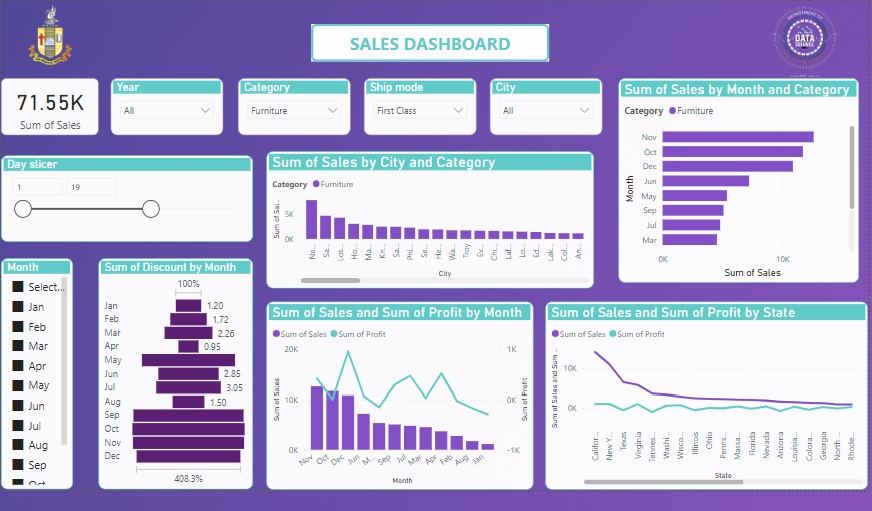

What the dashboard file says about the page in this screenshot:
{"tool":"powerbi","page":{"name":"Page 1","canvas":[1280,720],"ordinal":0},"visuals":[{"type":"clusteredColumnChart","fields":{"Category":["Table 1 (New Report).City"],"Series":["Table 1 (New Report).Category"],"Y":["Sum(Table 1 (New Report).Sales)"]},"box":[392,222,484,202],"z":0},{"type":"barChart","fields":{"Series":["Table 1 (New Report).Category"],"Y":["Sum(Table 1 (New Report).Sales)"],"Category":["Table 1 (New Report).Month"]},"box":[912.1,114.4,355.5,301.8],"z":1000},{"type":"lineStackedColumnComboChart","fields":{"Y2":["Sum(Table 1 (New Report).Profit)"],"Category":["Table 1 (New Report).Month"],"Y":["Sum(Table 1 (New Report).Sales)"]},"box":[392,444,394,276],"z":2000},{"type":"lineChart","fields":{"Y":["Sum(Table 1 (New Report).Sales)","Sum(Table 1 (New Report).Profit)"],"Category":["Table 1 (New Report).State"]},"box":[804,444,476,276],"z":3000},{"type":"slicer","title":"Month","fields":{"Values":["Table 1 (New Report).Month"]},"box":[0,380,106,340],"z":4000},{"type":"funnel","fields":{"Category":["Table 1 (New Report).Month"],"Y":["Sum(Table 1 (New Report).Discount)"]},"box":[144,380,228,340],"z":5000},{"type":"card","fields":{"Values":["Sum(Table 1 (New Report).Sales)"]},"box":[0,114,144,84],"z":6000},{"type":"slicer","title":"Category","fields":{"Values":["Table 1 (New Report).Category"]},"box":[350,114,166,84],"z":7000},{"type":"slicer","title":"City","fields":{"Values":["Table 1 (New Report).City"]},"box":[722,114,166,84],"z":8000},{"type":"slicer","title":"Ship mode","fields":{"Values":["Table 1 (New Report).Ship Mode"]},"box":[536,114,166,84],"z":9000},{"type":"slicer","title":"Day slicer","fields":{"Values":["Table 1 (New Report).Day"]},"box":[0,228,372,128],"z":10000},{"type":"slicer","title":"Year","fields":{"Values":["Table 1 (New Report).Year"]},"box":[162,114,166,84],"z":11000},{"type":"actionButton","box":[458.8,33.1,351.4,55.1],"z":12000},{"type":"image","box":[0,0,144.7,99.2],"z":13000},{"type":"image","box":[1123,0,130.9,126.8],"z":14000}]}

Visuals, with their boxes in screenshot pixels (x1, y1, x2, y2):
clusteredColumnChart - Table 1 (New Report).City x Table 1 (New Report).Category: <region>263, 151, 589, 287</region>
barChart - Table 1 (New Report).Category x Sum(Table 1 (New Report).Sales): <region>613, 79, 852, 282</region>
lineStackedColumnComboChart - Sum(Table 1 (New Report).Profit) x Table 1 (New Report).Month: <region>263, 301, 528, 486</region>
lineChart - Sum(Table 1 (New Report).Sales) x Sum(Table 1 (New Report).Profit): <region>540, 301, 860, 486</region>
"Month" slicer: <region>0, 258, 71, 486</region>
funnel - Table 1 (New Report).Month x Sum(Table 1 (New Report).Discount): <region>97, 258, 250, 486</region>
card - Sum(Table 1 (New Report).Sales): <region>0, 79, 97, 135</region>
"Category" slicer: <region>235, 79, 347, 135</region>
"City" slicer: <region>485, 79, 597, 135</region>
"Ship mode" slicer: <region>360, 79, 472, 135</region>
"Day slicer" slicer: <region>0, 155, 250, 241</region>
"Year" slicer: <region>109, 79, 220, 135</region>
actionButton: <region>308, 25, 544, 62</region>
image: <region>0, 2, 97, 69</region>
image: <region>754, 2, 842, 87</region>
